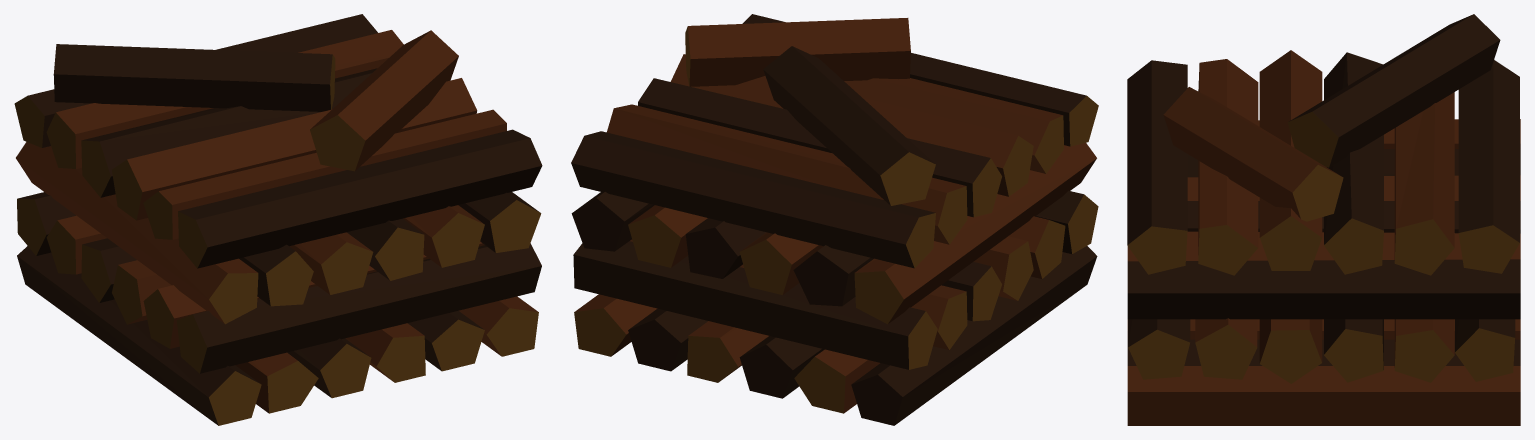
The model's file is Piles_of_wood_1.fbx.
The picture shows the model from 3 angles, left to right: view 1: azimuth 30°, elevation 25°; view 2: azimuth 150°, elevation 25°; view 3: azimuth 270°, elevation 25°; orthographic projection.
Parts seen in each view (by area): view 1: Piles_of_wood_1; view 2: Piles_of_wood_1; view 3: Piles_of_wood_1.
Boxes of the visible parts, x1=… form: Piles_of_wood_1: x1=14, y1=14, x2=542, y2=425; Piles_of_wood_1: x1=571, y1=14, x2=1098, y2=425; Piles_of_wood_1: x1=1127, y1=14, x2=1520, y2=425.
Bounding box in the file's own units: 276 × 201 × 276.
